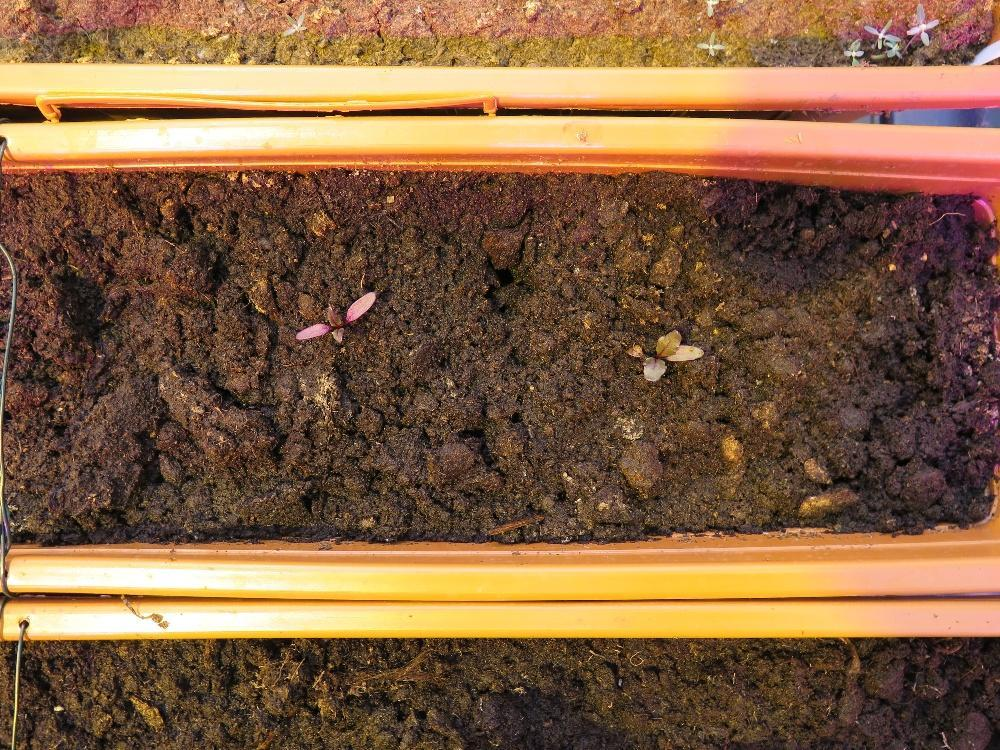weed: (904, 1, 939, 46), (694, 29, 725, 56), (279, 10, 307, 37)
